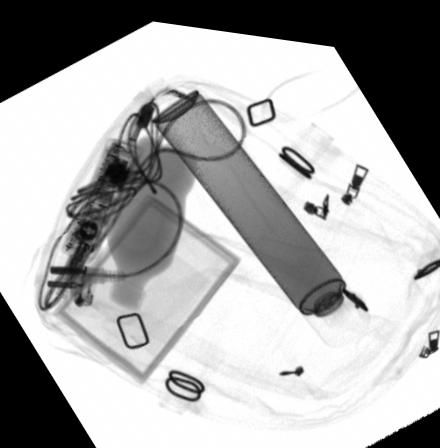Lighter: (85, 133, 138, 202)
Sprayer: (150, 81, 369, 339)
